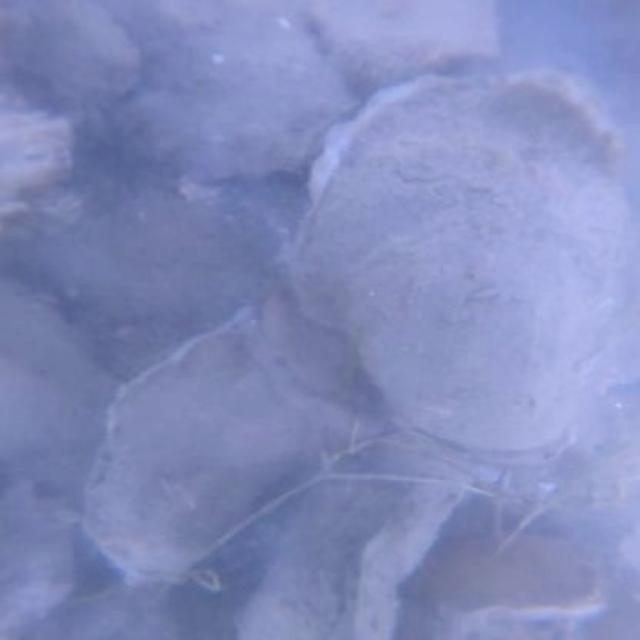Oyster-Closed: (292, 77, 620, 455), (92, 334, 323, 583), (123, 2, 350, 186), (317, 2, 519, 87), (427, 528, 611, 615), (11, 0, 136, 123), (0, 82, 89, 247)
Oyster-Open: (236, 429, 471, 638)
